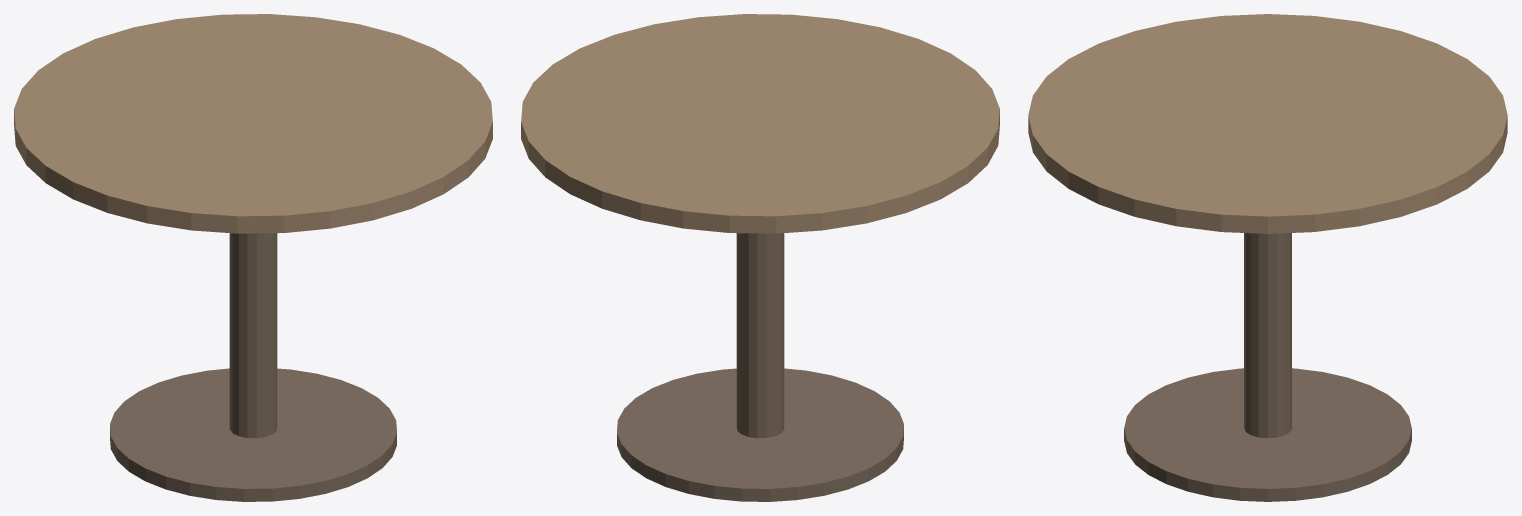
The model's file is item_table.glb.
3 renders of one model, left to right at view 1: azimuth 30°, elevation 25°; view 2: azimuth 150°, elevation 25°; view 3: azimuth 270°, elevation 25°, orthographic.
Parts seen in each view (by area): view 1: item_table; view 2: item_table; view 3: item_table.
Part boxes in pixels (<box>): item_table: <box>14,14,492,501</box>; item_table: <box>521,14,999,501</box>; item_table: <box>1028,14,1507,501</box>.
Bounding box in the file's own units: 1 × 0.75 × 1.
